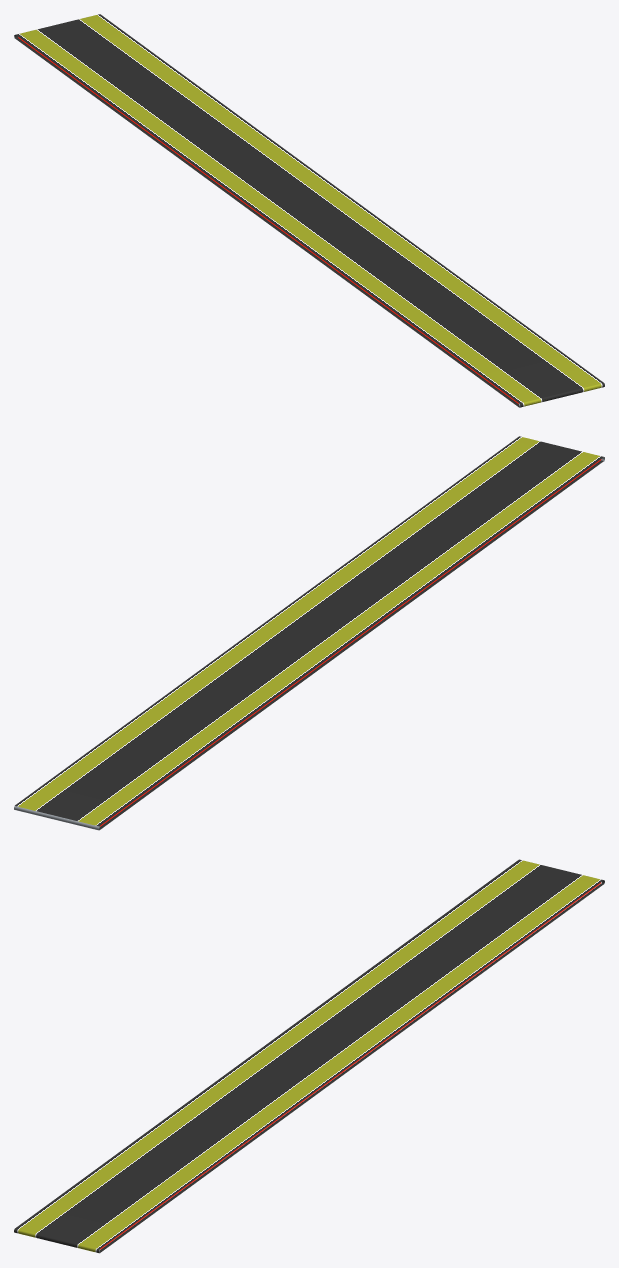
File: assemblyline.fbx
3 views of the same model, one above another, from view 1: azimuth 30°, elevation 25°; view 2: azimuth 150°, elevation 25°; view 3: azimuth 330°, elevation 25° (orthographic).
Visible parts, largest first — view 1: assembly_inside; view 2: assembly_inside; view 3: assembly_inside.
Part boxes in pixels (x1=…): assembly_inside: x1=14, y1=14, x2=604, y2=407; assembly_inside: x1=14, y1=436, x2=604, y2=830; assembly_inside: x1=14, y1=859, x2=604, y2=1253.
Bounding box in the file's own units: 146 × 7.19 × 1501.
